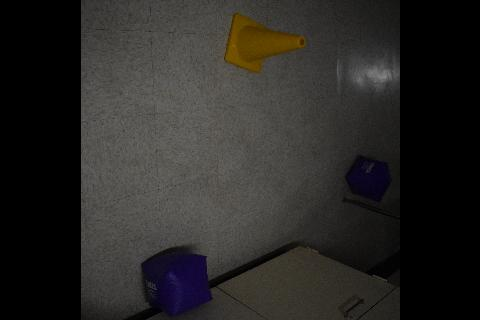cone: (223, 13, 305, 73)
cube: (141, 250, 211, 318), (345, 154, 391, 203)
